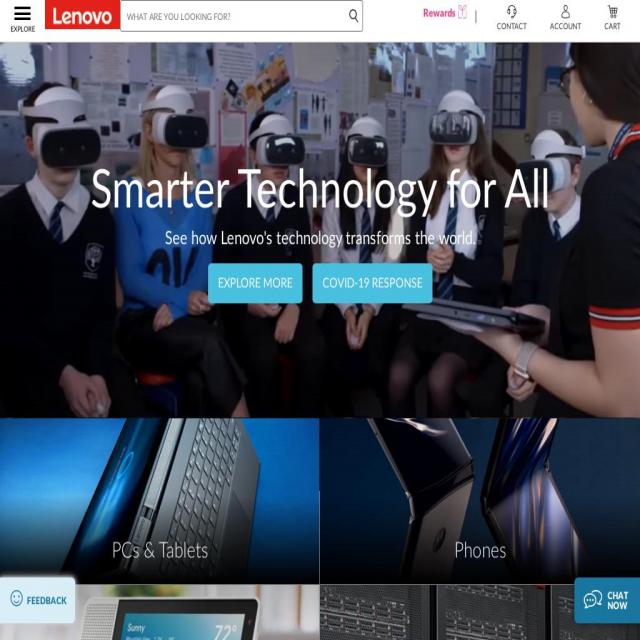chat-option: (575, 578, 640, 622)
login-option: (551, 5, 585, 42)
navigation-blocks: (0, 418, 640, 640)
navigation-links: (413, 7, 632, 38)
options: (8, 0, 38, 35)
search: (127, 5, 365, 33)
